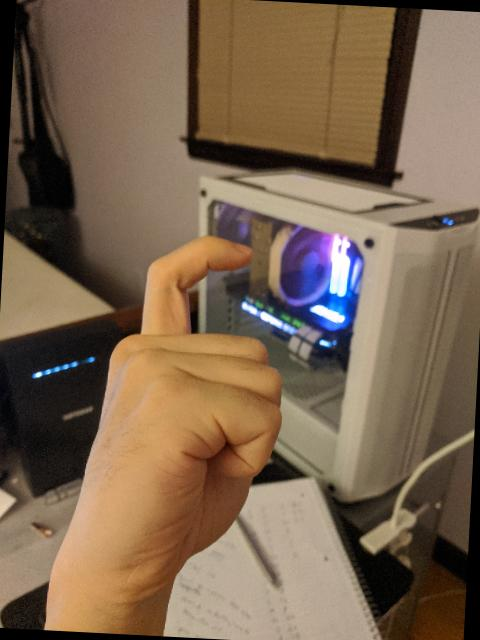X: (43, 223, 297, 598)
